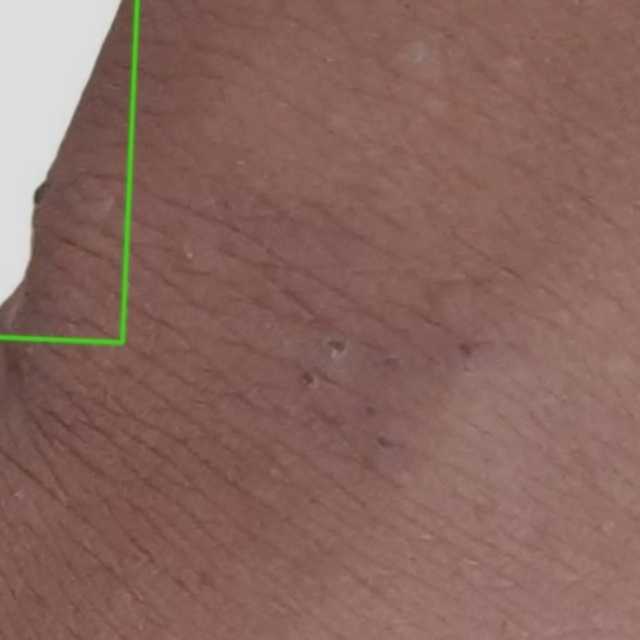Scabies: (0, 0, 137, 342)
